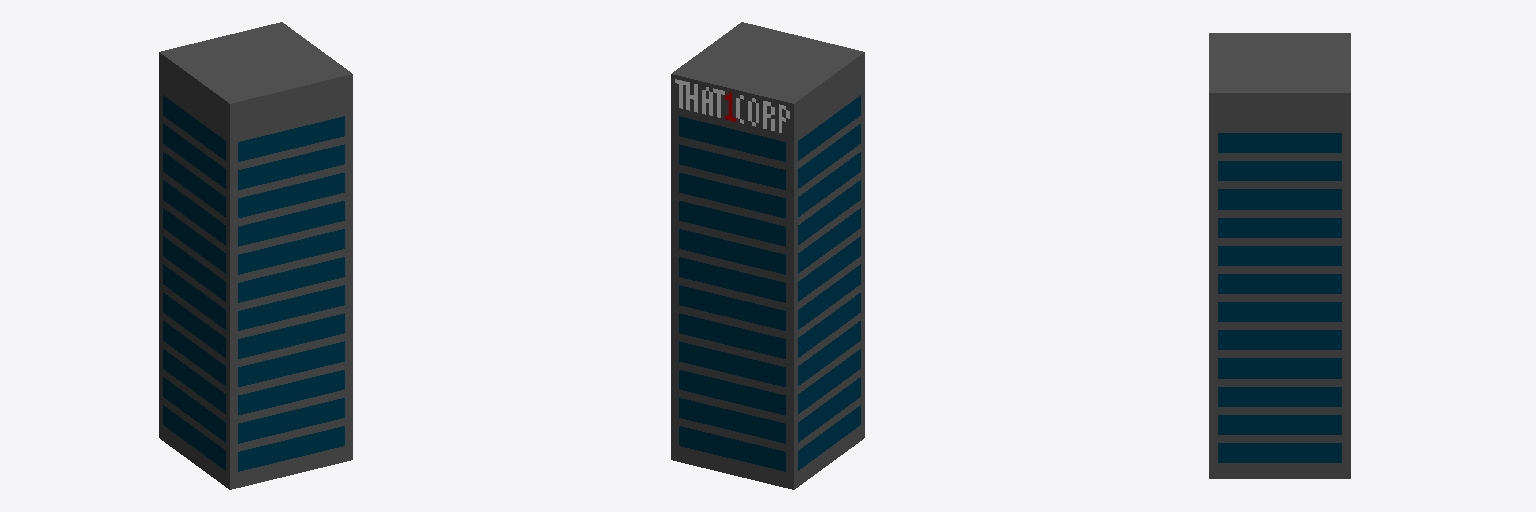
3 views of the same model, side by side, from view 1: azimuth 30°, elevation 25°; view 2: azimuth 150°, elevation 25°; view 3: azimuth 270°, elevation 25° (orthographic).
Visible parts, largest first — view 1: cube; view 2: cube; view 3: cube.
Boxes of the visible parts, <box> form: cube: <box>159,22,352,489</box>; cube: <box>671,22,864,489</box>; cube: <box>1209,33,1350,478</box>.
Size of the model in its own units: 2 by 6 by 2.
Materials: 1 (1 with a texture image).